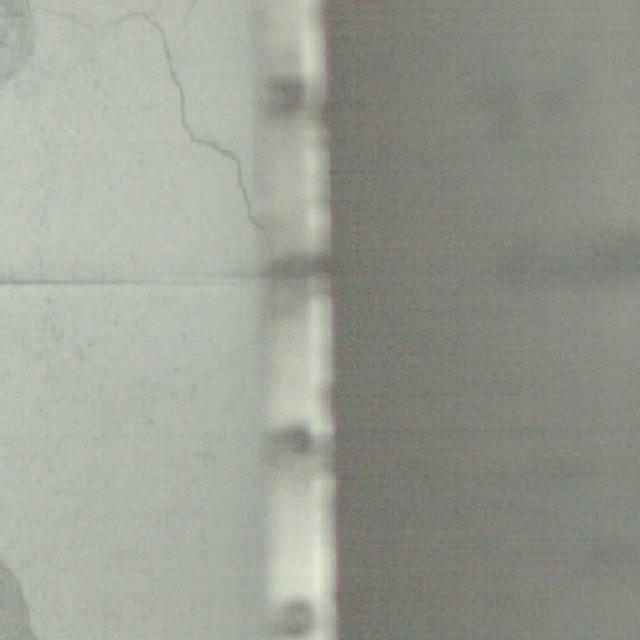Network: (0, 0, 259, 240)
